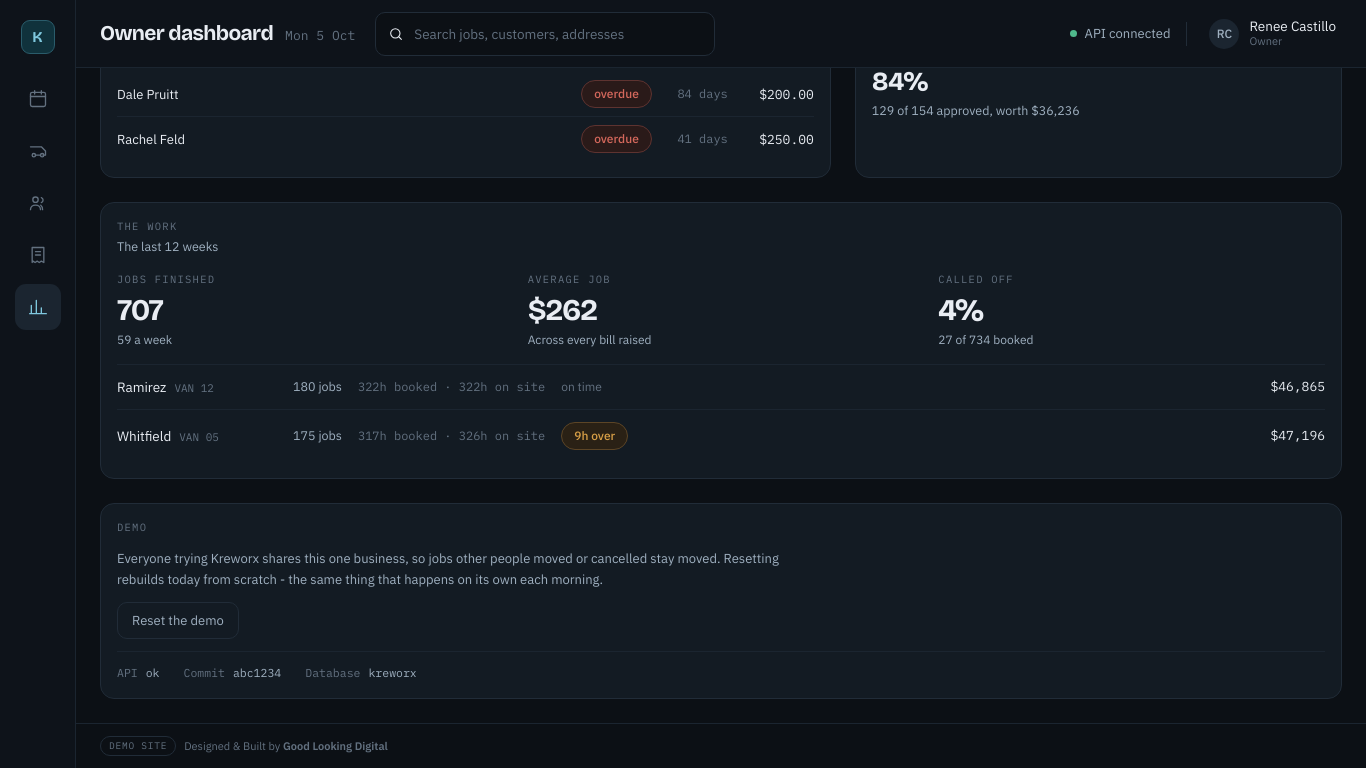
Test case: the owner's demo reset › shows the server's refusal rather than pretending it worked
(page scrolled)
Click the button "Reset the demo" at coordinates (178, 621), box x1=117 y1=602 x2=239 y2=639
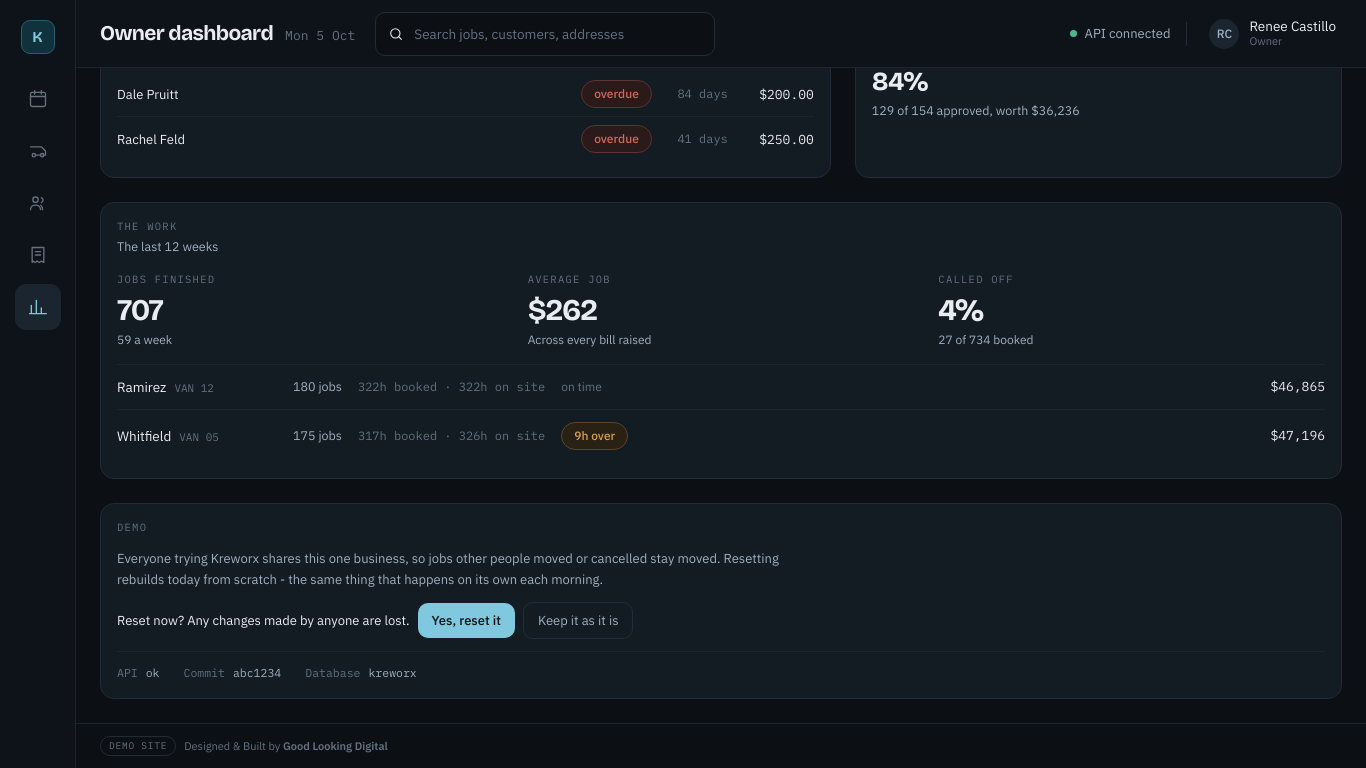
Click the button "Yes, reset it" at coordinates (466, 621), box x1=418 y1=603 x2=515 y2=638
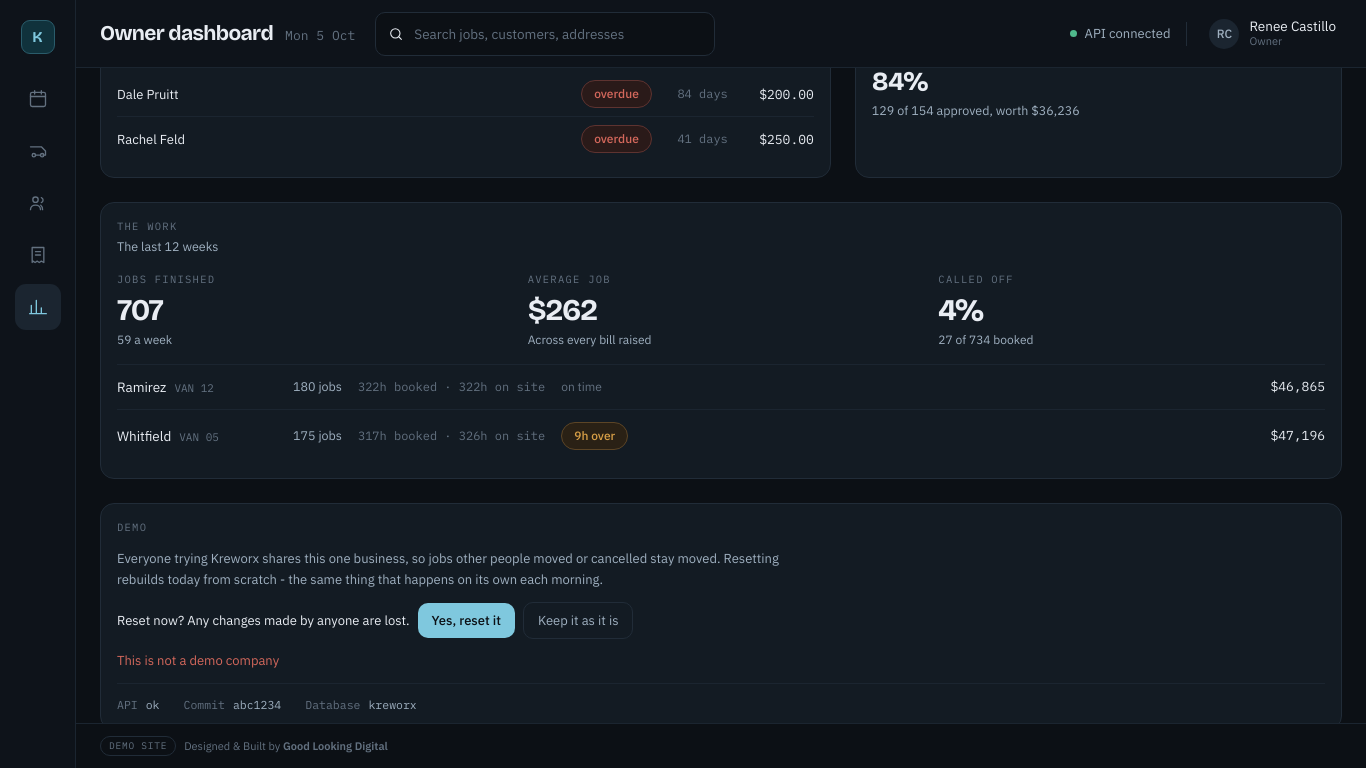
expect the message reads "This is not a demo company": met, box x1=117 y1=652 x2=279 y2=669
